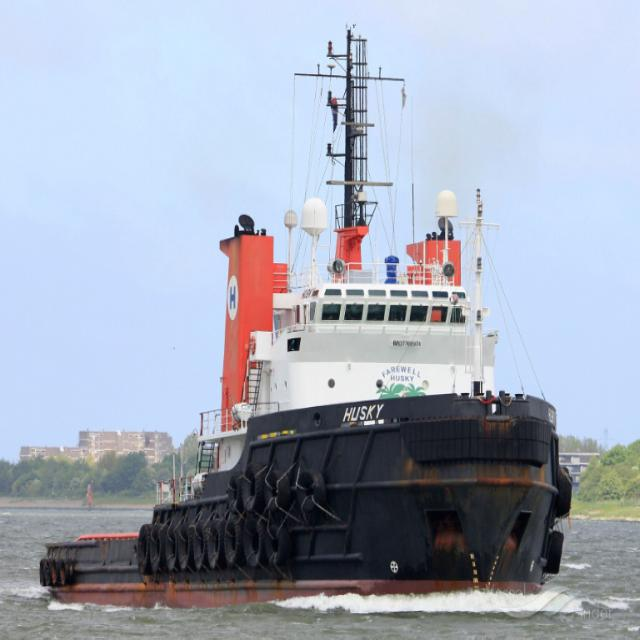OCR: (340, 401, 394, 432), (384, 333, 430, 355)
